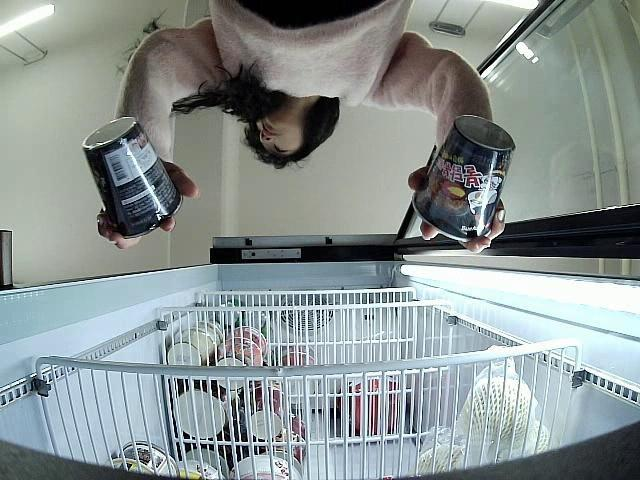08_buldak_S: (414, 116, 516, 242), (83, 117, 182, 240)
